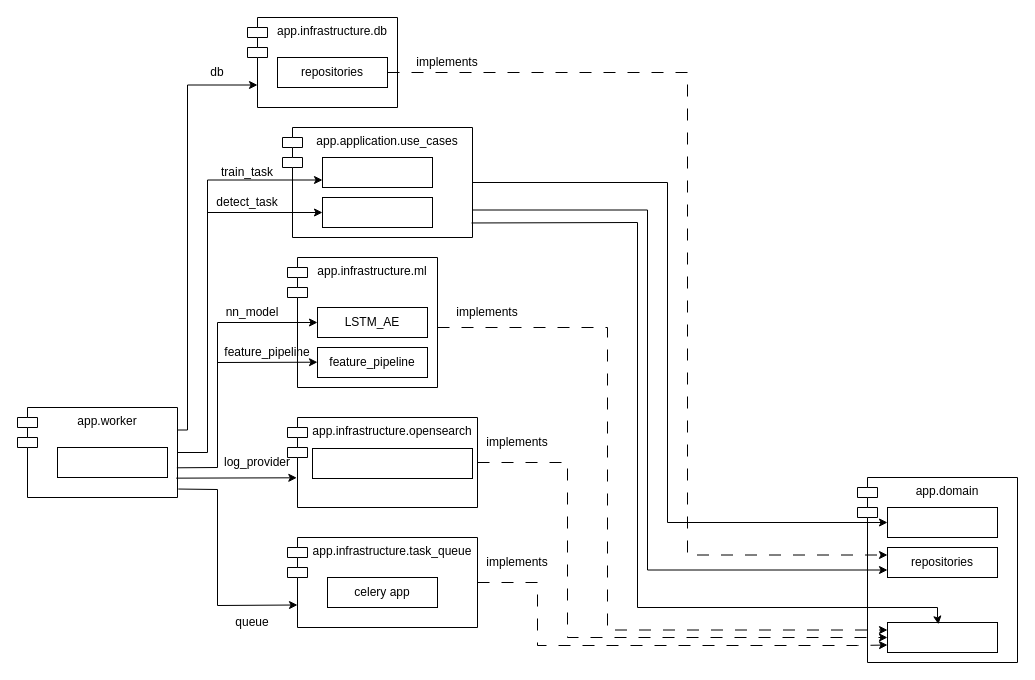
Image size: 1035x680. Some labels were removed from this diagram. Each missing label, with the centre of its shape:
detect: (377,212)
entities: (942,522)
interfaces: (942,637)
opensearch_log_provider: (392,463)
train: (377,172)
worker.py: (112,462)
